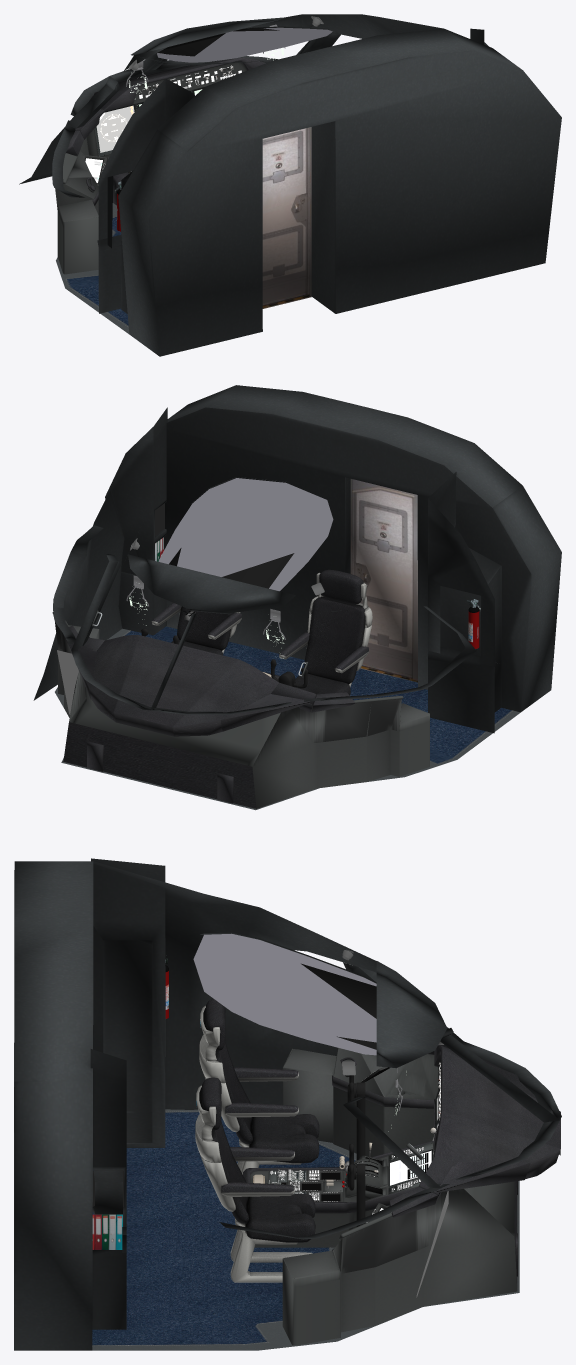
3 renders of one model, top to bottom at view 1: azimuth 30°, elevation 25°; view 2: azimuth 150°, elevation 25°; view 3: azimuth 270°, elevation 25°, orthographic. The views are drawn at different scales.
Visible parts, largest first — view 1: static-material-30, static-material-0, static-material-13, static-material-28, live_pfd_1, static-material-41; view 2: static-material-30, static-material-0, static-material-13, static-material-23, static-material-28, static-material-24, static-material-41, live_nav_3, static-material-14; view 3: static-material-30, static-material-0, static-material-28, static-material-23, static-material-24, static-material-17, static-material-41, static-material-13.
Part boxes in pixels (<box>): static-material-30: <box>19,14,561,356</box>; static-material-0: <box>55,27,332,274</box>; static-material-13: <box>262,127,311,308</box>; static-material-28: <box>56,203,129,333</box>; live_pfd_1: <box>96,105,134,152</box>; static-material-41: <box>157,27,279,61</box>; static-material-30: <box>33,385,561,733</box>; static-material-0: <box>52,478,429,808</box>; static-material-13: <box>155,479,417,682</box>; static-material-23: <box>152,569,368,695</box>; static-material-28: <box>55,626,520,810</box>; static-material-24: <box>152,572,372,687</box>; static-material-41: <box>169,548,294,588</box>; live_nav_3: <box>57,650,78,714</box>; static-material-14: <box>466,599,480,649</box>; static-material-30: <box>14,858,561,1350</box>; static-material-0: <box>193,933,560,1345</box>; static-material-28: <box>92,1109,519,1350</box>; static-material-23: <box>199,998,319,1242</box>; static-material-24: <box>195,1005,312,1282</box>; static-material-17: <box>347,1075,365,1226</box>; static-material-41: <box>301,963,376,1049</box>; static-material-13: <box>92,1170,123,1249</box>.
Size of the model in its own units: 3.69 by 2.05 by 3.29.
89 materials, 84 textured.
